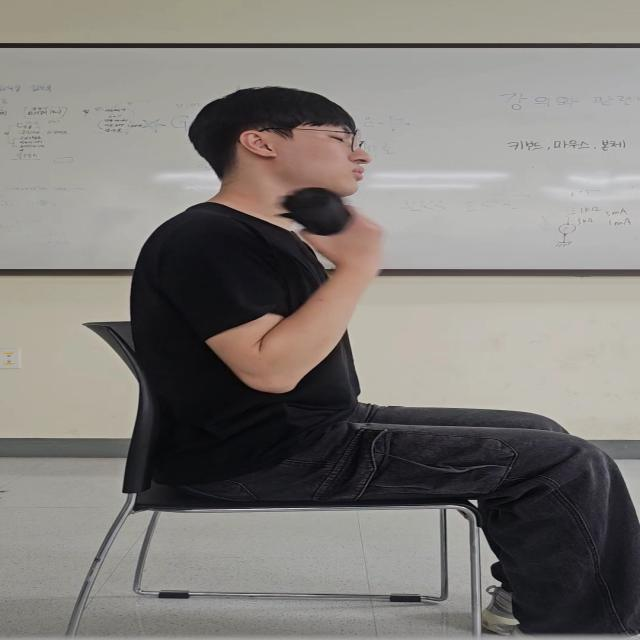curl: (158, 217, 397, 396)
